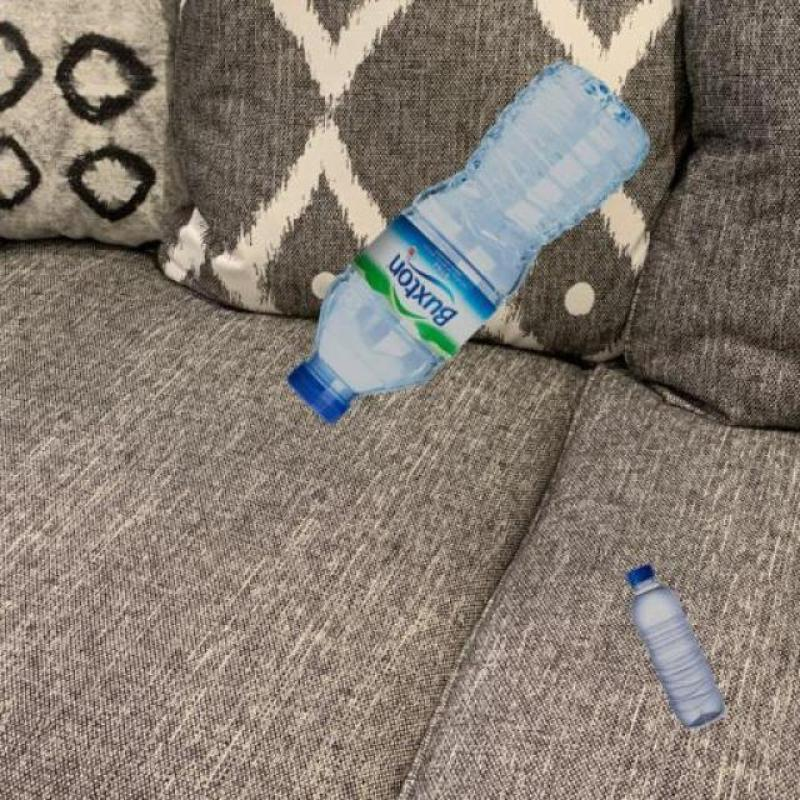botella: (284, 59, 652, 426), (624, 561, 726, 729)
